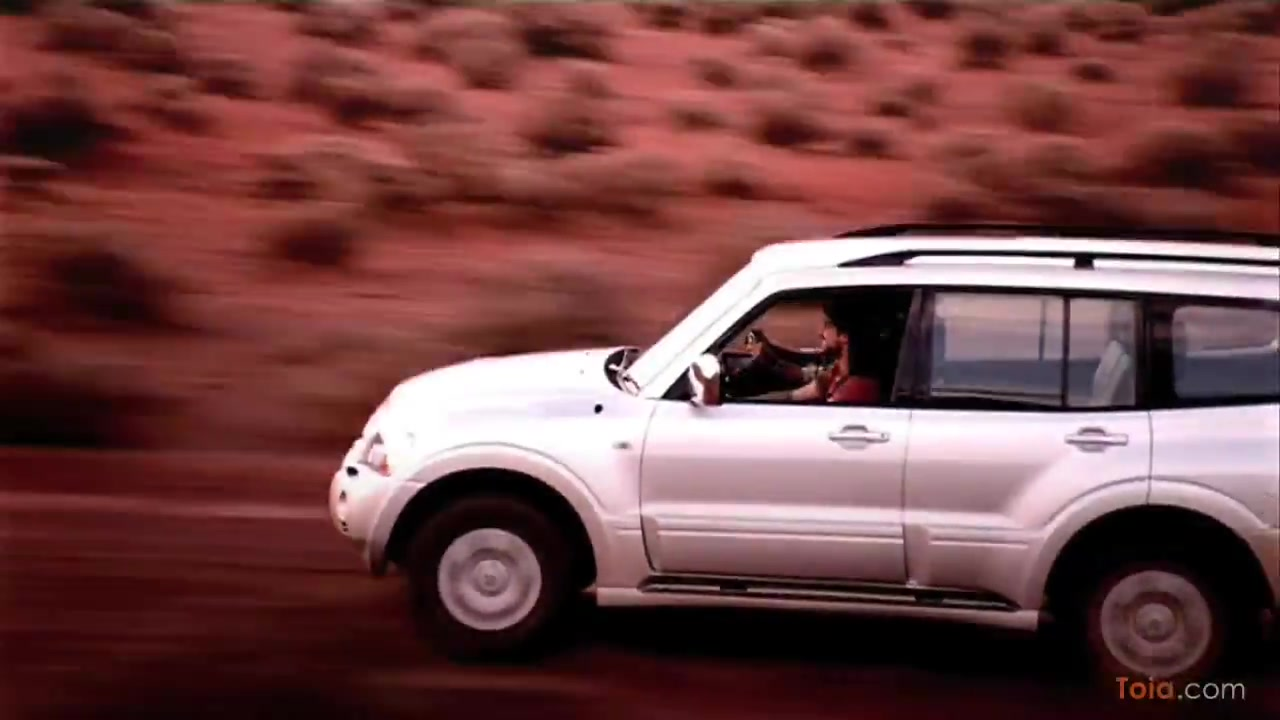car: (325, 222, 1280, 678)
